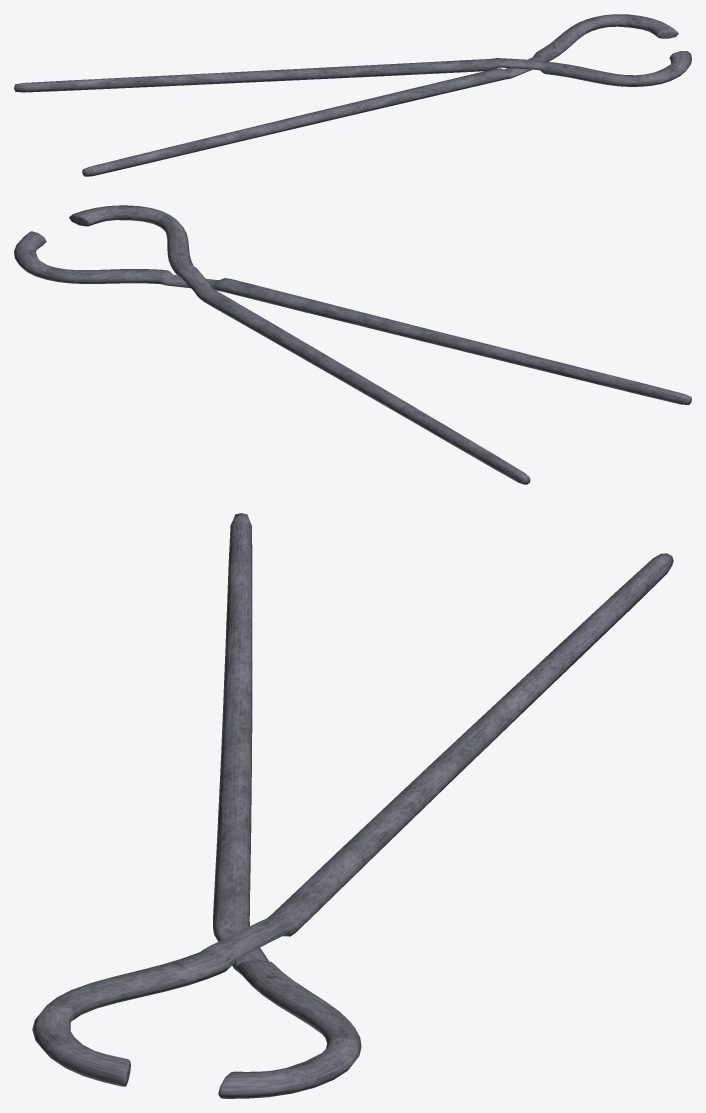
File: tongs.fbx
The picture shows the model from 3 angles, top to bottom: view 1: azimuth 30°, elevation 25°; view 2: azimuth 150°, elevation 25°; view 3: azimuth 270°, elevation 25°; orthographic projection. The views are drawn at different scales.
Visible parts, largest first — view 1: Plane.003, Plane.001; view 2: Plane.001, Plane.003; view 3: Plane.003, Plane.001.
Boxes of the visible parts, x1=… form: Plane.003: x1=14, y1=51, x2=691, y2=92; Plane.001: x1=82, y1=14, x2=678, y2=176; Plane.001: x1=14, y1=231, x2=691, y2=404; Plane.003: x1=69, y1=205, x2=530, y2=484; Plane.003: x1=32, y1=553, x2=673, y2=1086; Plane.001: x1=213, y1=513, x2=361, y2=1098.
Bounding box in the file's own units: 547 × 10.94 × 257.
1 material, 1 textured.
